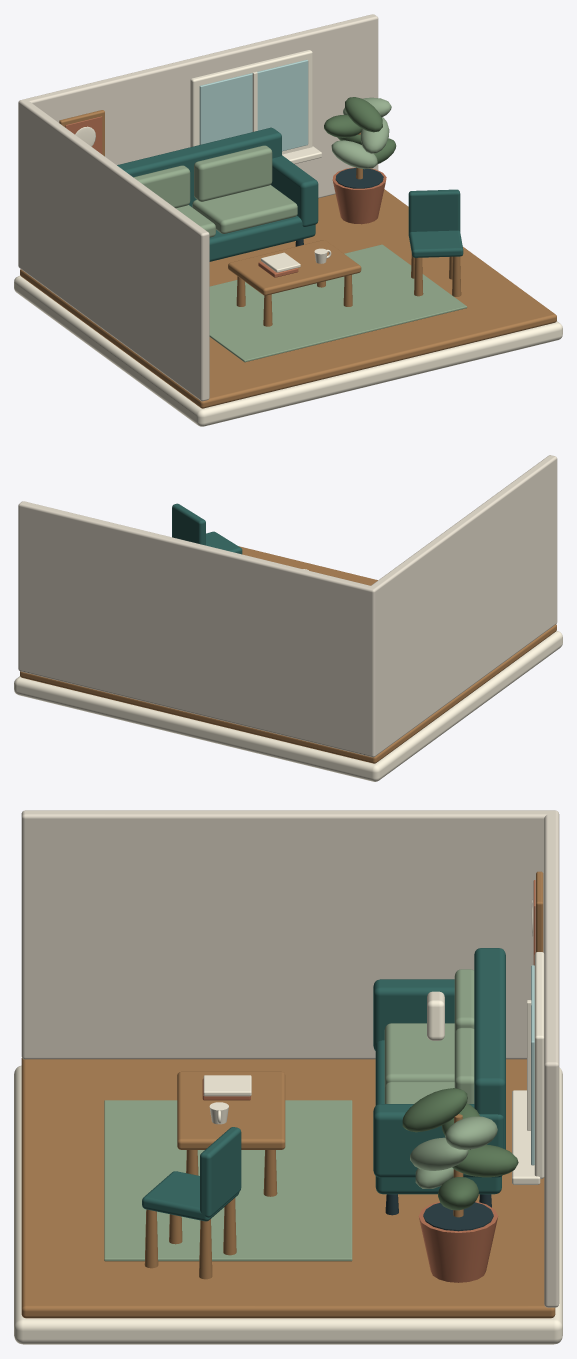
File: home.glb
3 renders of one model, top to bottom at view 1: azimuth 30°, elevation 25°; view 2: azimuth 150°, elevation 25°; view 3: azimuth 270°, elevation 25°, orthographic. The views are drawn at different scales.
Parts seen in each view (by area): view 1: side-wall, floor, back-wall, rug, foundation, window-glass, back (×2), back-cushion (×2), top, seat-cushion, leaf (×4), frame (+6 smaller); view 2: back-wall, side-wall, foundation, floor, back, seat; view 3: side-wall, floor, rug, foundation, back (×2), back-wall, leaf (×5), arm (×2), top, seat-cushion (×2), ceramic-pot, back-cushion (×2) (+9 smaller).
Boxes of the visible parts, x1,y1,x2,y2 form: side-wall: [20, 100, 209, 401]; floor: [20, 189, 556, 408]; back-wall: [18, 14, 378, 269]; rug: [209, 244, 467, 362]; foundation: [14, 275, 562, 426]; window-glass: [199, 59, 308, 151]; back (×2): [117, 127, 460, 232]; back-cushion (×2): [133, 145, 272, 208]; top: [228, 240, 361, 295]; seat-cushion: [192, 185, 297, 233]; leaf (×4): [324, 97, 389, 169]; frame: [209, 216, 315, 261]; back-wall: [18, 501, 377, 757]; side-wall: [371, 455, 557, 754]; foundation: [14, 631, 562, 781]; floor: [20, 546, 556, 763]; back: [172, 503, 205, 545]; seat: [206, 531, 242, 554]; side-wall: [21, 810, 551, 1059]; floor: [21, 1058, 555, 1318]; rug: [104, 1100, 352, 1261]; foundation: [14, 1065, 562, 1344]; back (×2): [200, 948, 505, 1217]; back-wall: [544, 810, 559, 1307]; leaf (×5): [402, 1088, 518, 1210]; arm (×2): [373, 979, 503, 1177]; top: [177, 1071, 285, 1149]; seat-cushion (×2): [384, 1023, 454, 1103]; ceramic-pot: [418, 1201, 498, 1282]; back-cushion (×2): [454, 969, 474, 1103].
Bounding box in the file's own units: 4.1 × 2.06 × 3.65.
